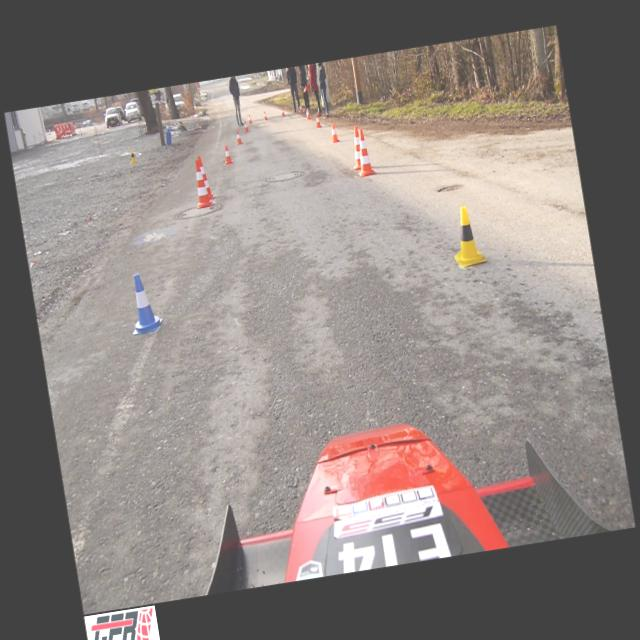blue_cone: (124, 270, 164, 336), (164, 121, 170, 132)
large_orange_cone: (190, 160, 213, 208), (353, 128, 374, 176), (197, 154, 215, 199), (348, 125, 364, 168)
orange_cone: (330, 122, 340, 144), (223, 144, 233, 164), (314, 113, 322, 128), (235, 130, 242, 144), (243, 120, 250, 132), (305, 108, 311, 120), (298, 104, 304, 115), (280, 106, 286, 116), (248, 114, 253, 124), (263, 110, 268, 120), (303, 86, 308, 92)
yellow_cone: (446, 204, 486, 268), (128, 148, 138, 163)
